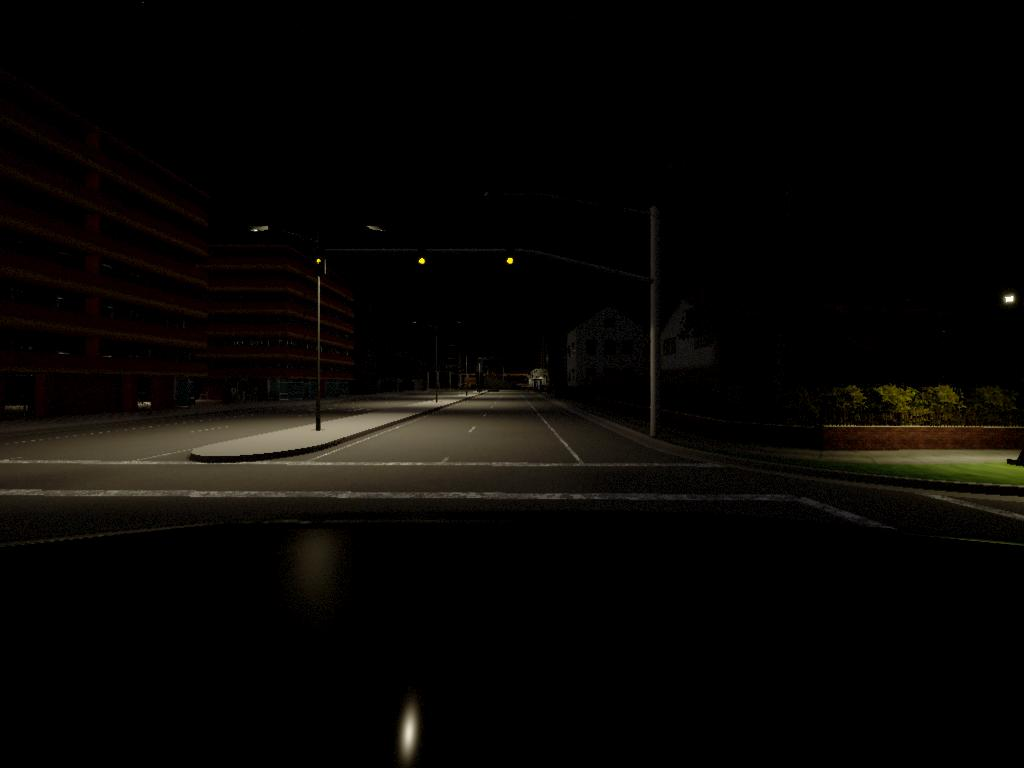traffic_light: (313, 251, 328, 274), (505, 248, 517, 268), (417, 250, 428, 269)
